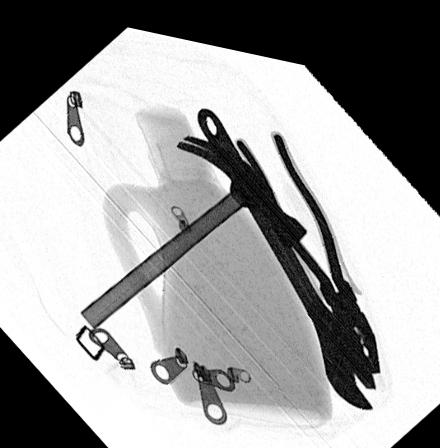Hammer: (78, 123, 305, 326)
Pliers: (201, 116, 387, 357)
Wrench: (198, 98, 377, 394)
